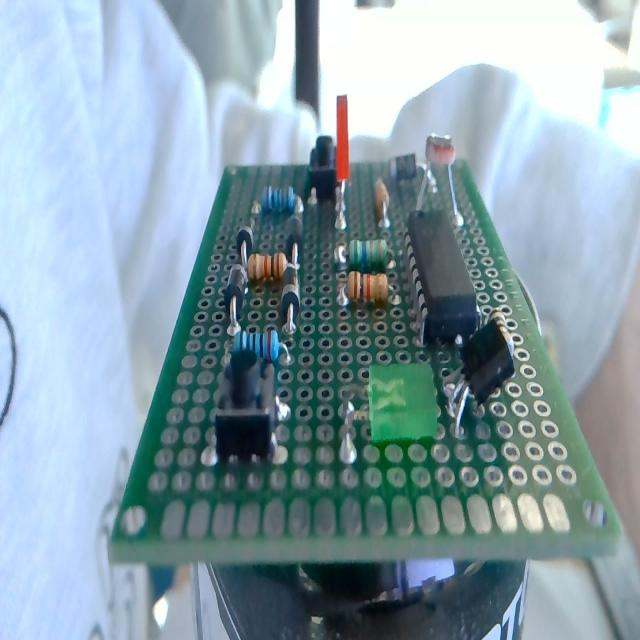IC: (396, 206, 490, 340)
cds: (418, 125, 458, 214)
diode: (282, 206, 312, 272), (278, 267, 304, 342), (225, 261, 251, 328), (238, 202, 262, 271), (384, 151, 428, 182)
led: (338, 358, 442, 468), (331, 90, 355, 225)
resistor: (344, 267, 396, 309), (224, 330, 285, 361), (339, 235, 393, 268), (244, 250, 292, 282), (257, 181, 299, 217)
switch: (208, 342, 288, 462), (306, 142, 342, 206)
transistor: (445, 317, 523, 453)
